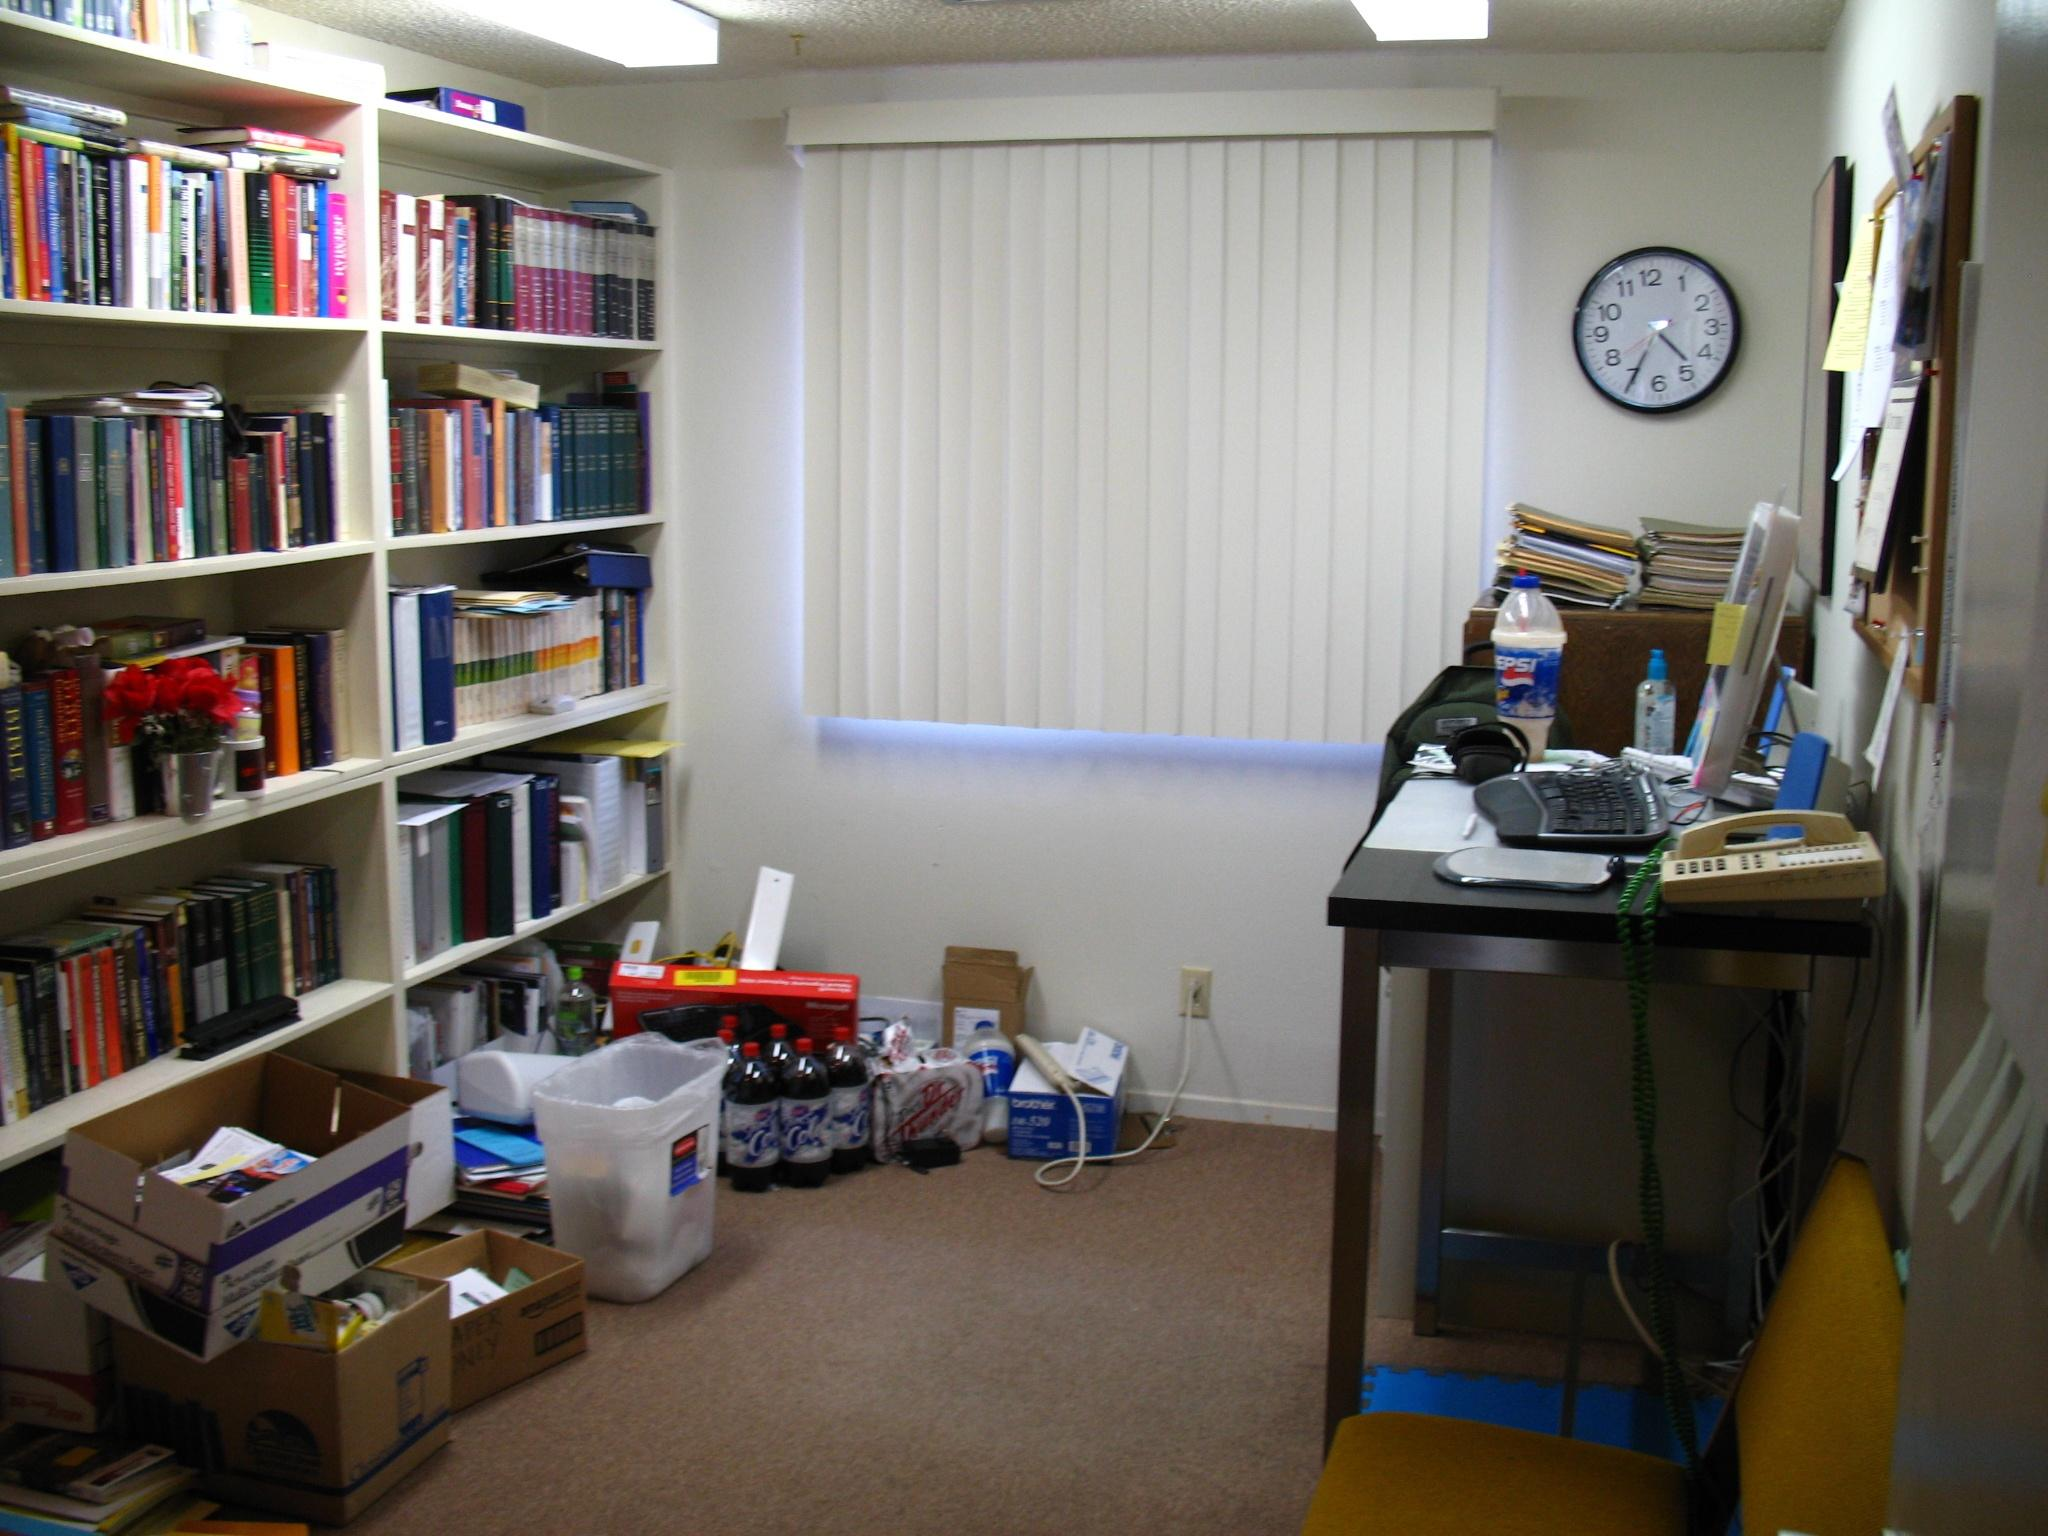Meja: (1321, 745, 1874, 1421)
Rak: (0, 8, 408, 1158), (369, 90, 677, 1085)
